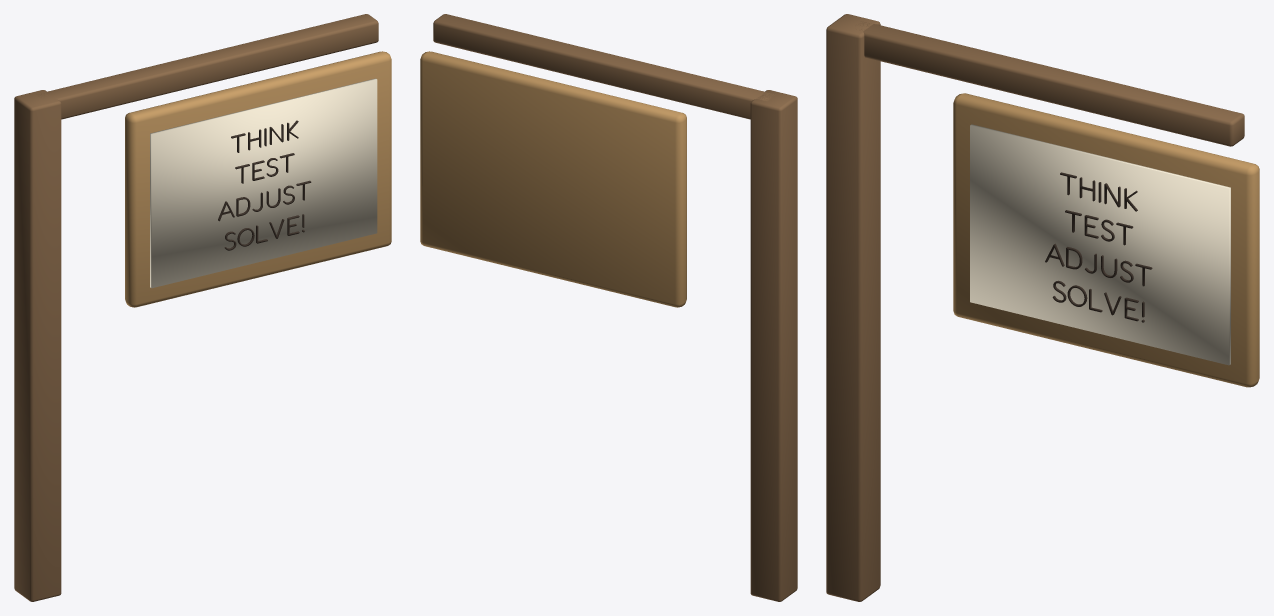
The model's file is signpost.glb.
3 views of the same model, side by side, from view 1: azimuth 30°, elevation 25°; view 2: azimuth 150°, elevation 25°; view 3: azimuth 330°, elevation 25° (orthographic). The views are drawn at different scales.
Visible parts, largest first — view 1: Sign_Post, Sign_Paper, Sign_Board, Sign_Words; view 2: Sign_Board, Sign_Post; view 3: Sign_Post, Sign_Paper, Sign_Board, Sign_Words.
Part boxes in pixels (left/top/right/bottom): Sign_Post: left=14, top=14, right=378, bottom=601; Sign_Paper: left=150, top=78, right=377, bottom=288; Sign_Board: left=125, top=51, right=391, bottom=307; Sign_Words: left=218, top=120, right=311, bottom=250; Sign_Board: left=420, top=51, right=686, bottom=307; Sign_Post: left=433, top=14, right=797, bottom=601; Sign_Post: left=826, top=14, right=1244, bottom=601; Sign_Paper: left=970, top=124, right=1230, bottom=365; Sign_Board: left=953, top=93, right=1259, bottom=387; Sign_Words: left=1045, top=172, right=1152, bottom=322.
Size of the model in its own units: 1.4 by 1.8 by 0.12.
